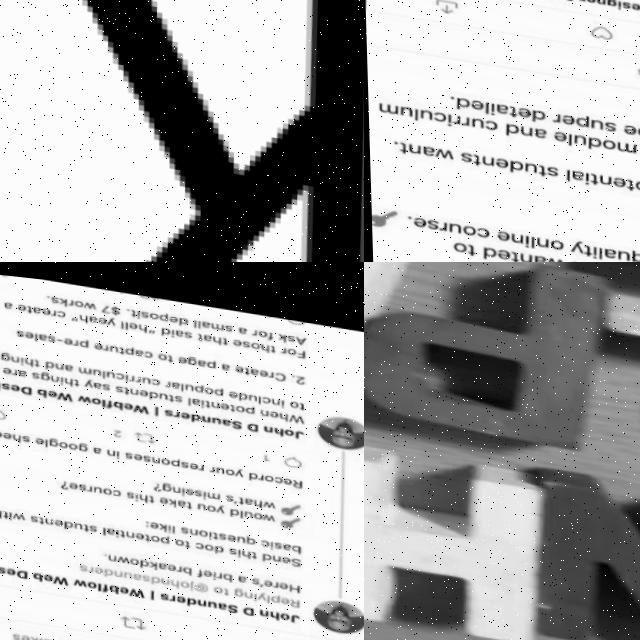3: (101, 295, 109, 304)
4: (53, 632, 64, 640), (64, 633, 75, 640)
H: (364, 429, 548, 640)
K: (0, 0, 364, 262)
N: (514, 454, 640, 640)
P: (364, 262, 607, 452)
